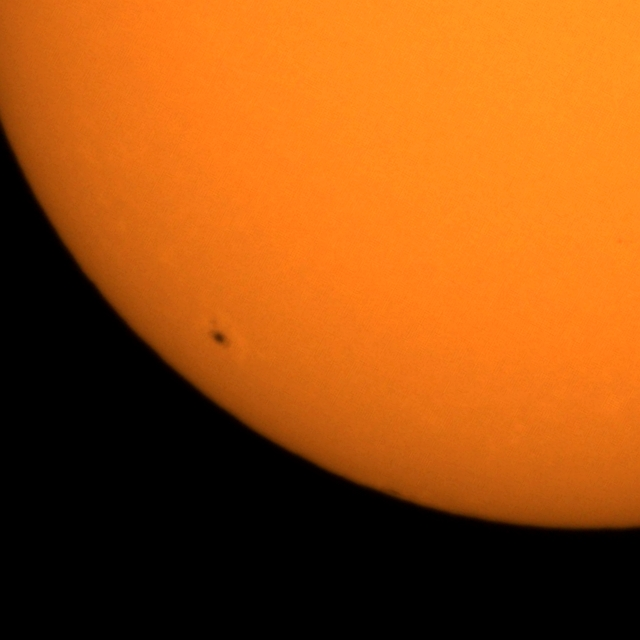sunspot: (206, 317, 232, 350)
